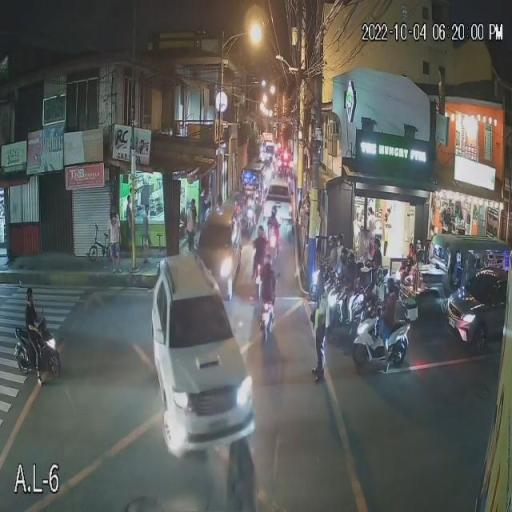helmet: (384, 280, 396, 295), (24, 290, 34, 304), (262, 253, 273, 265), (340, 249, 347, 265), (372, 237, 380, 250), (348, 255, 357, 266), (256, 226, 264, 238), (329, 236, 336, 248), (337, 235, 344, 247), (270, 206, 277, 216)
motorcycle: (349, 313, 412, 366), (11, 321, 63, 376), (329, 279, 373, 327), (305, 263, 336, 296), (260, 301, 277, 342), (268, 233, 278, 256), (253, 258, 260, 286)
rider: (23, 289, 39, 364), (260, 253, 274, 305), (383, 280, 395, 338), (348, 254, 356, 313), (372, 236, 382, 272), (255, 226, 264, 264), (328, 234, 337, 267), (268, 208, 278, 237), (339, 250, 347, 286), (336, 236, 344, 266)
